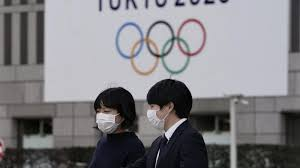mask: (144, 76, 192, 133), (89, 82, 133, 136)
